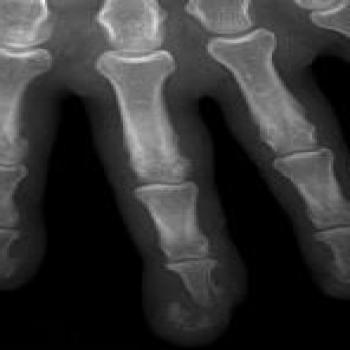Fracture: (156, 284, 250, 339)
